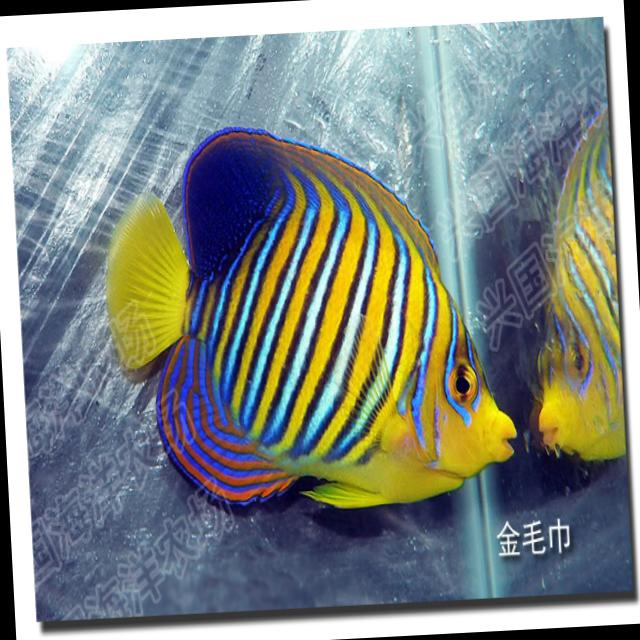AngelFish: (100, 112, 518, 514)
